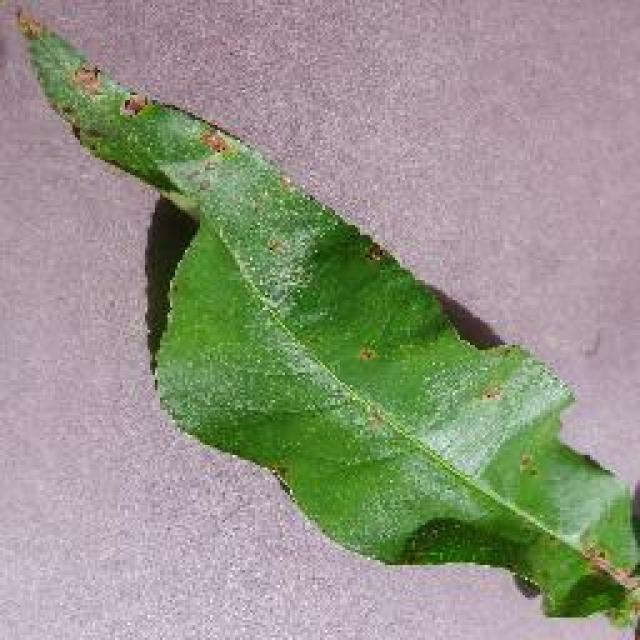Pea_Bacterial_spot: (16, 0, 233, 182)
